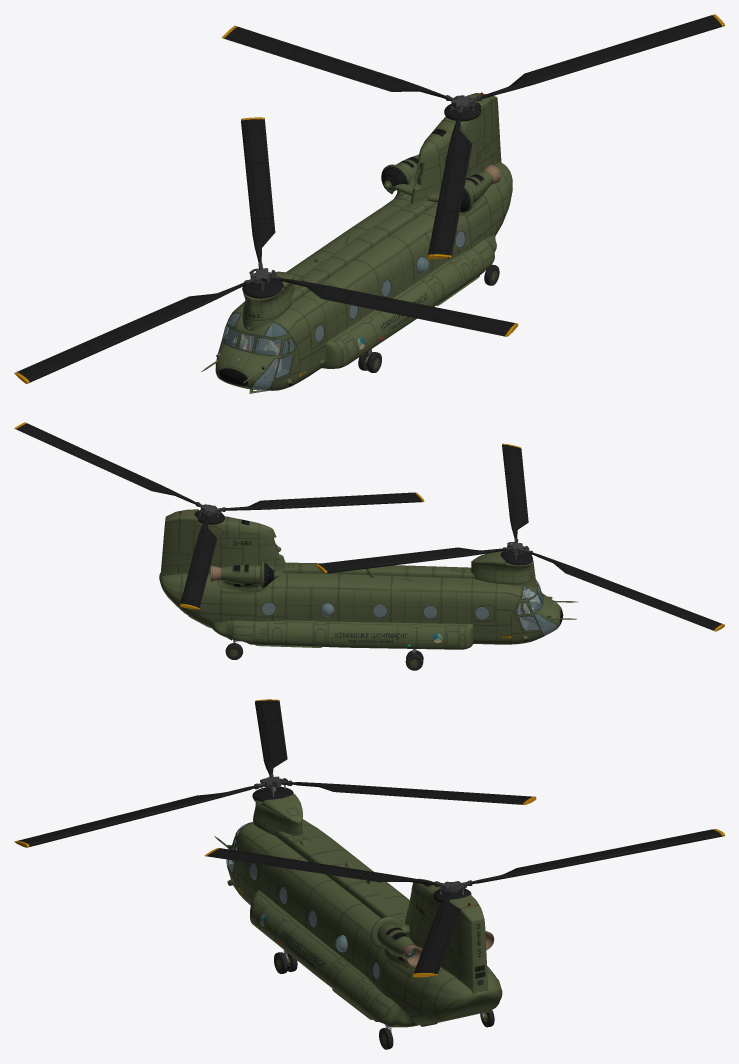
3 renders of one model, top to bottom at view 1: azimuth 30°, elevation 25°; view 2: azimuth 150°, elevation 25°; view 3: azimuth 270°, elevation 25°, orthographic. The views are drawn at different scales.
Parts seen in each view (by area): view 1: fuze-FACES, Obtek_B06-FACES, red2-FACES, Line06-FACES, Line05-FACES, Line03-FACES, Line04-FACES, Line01-FACES, Line02-FACES, korob_B02-FACES, red1-FACES, SShape02-FACES (+2 smaller); view 2: fuze-FACES, Obtek_B07-FACES, red2-FACES, Line02-FACES, Line05-FACES, Line03-FACES, Line01-FACES, korob_B02-FACES, Line04-FACES, Line06-FACES, red1-FACES, dvig_V10-FACES (+1 smaller); view 3: fuze-FACES, Obtek_B06-FACES, red2-FACES, Line04-FACES, korob_B02-FACES, Line02-FACES, Line01-FACES, Line06-FACES, Line03-FACES, Line05-FACES, red1-FACES, dvig_V09-FACES.
Part boxes in pixels (<box>): fuze-FACES: <box>216,162,512,390</box>; Obtek_B06-FACES: <box>321,234,496,368</box>; red2-FACES: <box>410,93,501,204</box>; Line06-FACES: <box>278,278,518,336</box>; Line05-FACES: <box>14,282,247,383</box>; Line03-FACES: <box>480,14,724,99</box>; Line04-FACES: <box>221,25,446,99</box>; Line01-FACES: <box>241,117,275,262</box>; Line02-FACES: <box>427,113,472,258</box>; korob_B02-FACES: <box>291,200,437,303</box>; red1-FACES: <box>242,271,294,331</box>; SShape02-FACES: <box>252,231,463,382</box>; fuze-FACES: <box>159,562,563,644</box>; Obtek_B07-FACES: <box>211,620,473,649</box>; red2-FACES: <box>160,509,286,577</box>; Line02-FACES: <box>224,492,424,510</box>; Line05-FACES: <box>530,552,724,631</box>; Line03-FACES: <box>14,422,197,504</box>; Line01-FACES: <box>315,547,505,573</box>; korob_B02-FACES: <box>282,562,474,578</box>; Line04-FACES: <box>180,516,217,609</box>; Line06-FACES: <box>502,443,528,539</box>; red1-FACES: <box>471,551,536,587</box>; dvig_V10-FACES: <box>217,564,270,592</box>; fuze-FACES: <box>227,819,502,1024</box>; Obtek_B06-FACES: <box>250,890,419,1027</box>; red2-FACES: <box>405,878,488,994</box>; Line04-FACES: <box>470,829,724,884</box>; korob_B02-FACES: <box>275,831,409,936</box>; Line02-FACES: <box>204,848,435,885</box>; Line01-FACES: <box>289,782,536,804</box>; Line06-FACES: <box>14,785,257,847</box>; Line03-FACES: <box>413,892,460,977</box>; Line05-FACES: <box>255,699,287,774</box>; red1-FACES: <box>253,794,302,835</box>; dvig_V09-FACES: <box>377,923,416,969</box>.
Size of the model in its own units: 28.25 by 7 by 21.63.
Materials: 47 (27 with a texture image).
